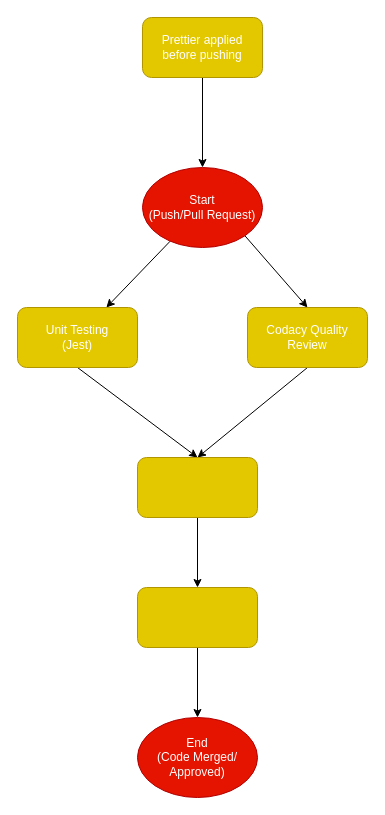
Image size: 385x815. Some labels were removed from this diagram. The shapes that lost their labels are listed below. From the top down, each one's box as (x1, y1, x2, y2) in pixels, then its label:
(136, 456, 258, 518): Documentation Generation (JSDocs)
(136, 586, 258, 648): Real Person Code Review Approval
